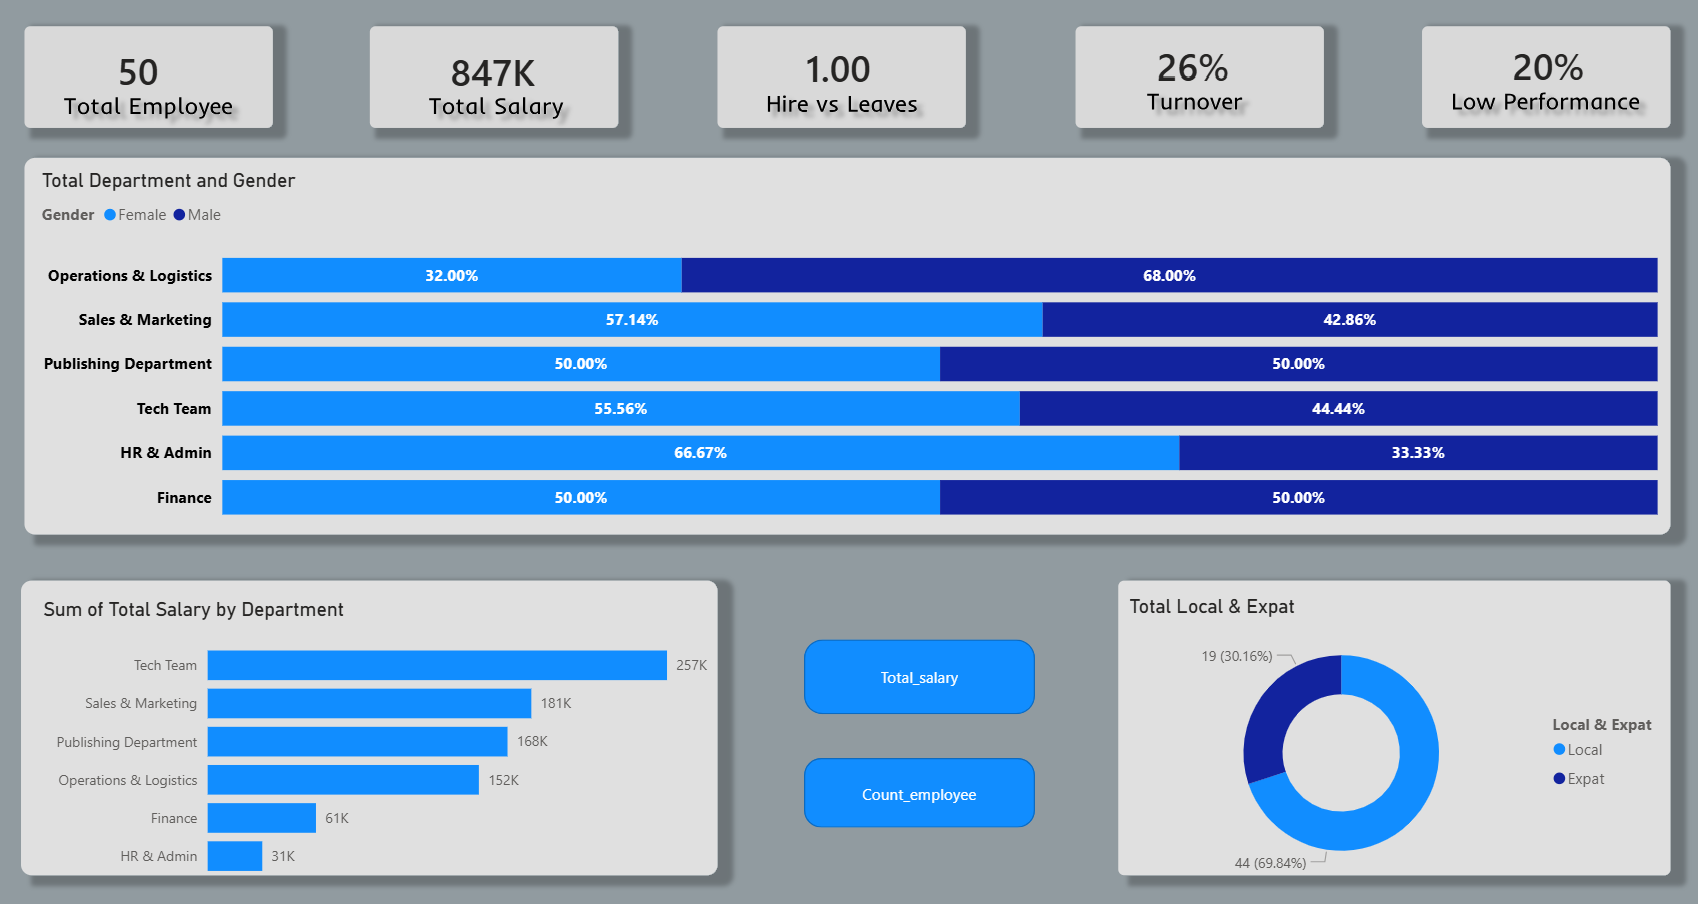

What the dashboard file says about the page in this screenshot:
{"tool":"powerbi","page":{"name":"overview_page","canvas":[1480,790],"ordinal":0},"visuals":[{"type":"group","id":"g1","title":"Group 2","box":[23,0,1434,777.1],"z":0,"group":"g3"},{"type":"group","id":"g2","title":"Group 1","box":[23,149.9,1434,627.1],"z":0,"group":"g1"},{"type":"barChart","fields":{"Category":["Employees.Department"],"Y":["Sum(Payroll.Total Salary)"]},"box":[37.9,521.6,586.5,255.4],"z":0,"group":"g2"},{"type":"group","id":"g3","title":"Group 3","box":[23,0,1434,777.1],"z":516},{"type":"cardVisual","fields":{"Data":["_measures.% low_peformance (2023-2024)"]},"box":[1285.4,11.8,127.9,94.1],"z":1000,"group":"g3"},{"type":"cardVisual","fields":{"Data":["CountNonNull(Employees.Employee_ID)"]},"box":[78,19.1,123.5,86.8],"z":1000,"group":"g1"},{"type":"cardVisual","fields":{"Data":["Sum(Payroll.Total Salary)"]},"box":[366.3,22.1,154.4,83.8],"z":2000,"group":"g1"},{"type":"shape","box":[701.1,557.3,200,64.7],"z":2000,"group":"g2"},{"type":"cardVisual","fields":{"Data":["_measures.Hire vs Leaves"]},"box":[673.6,0,227.9,120.6],"z":3000,"group":"g1"},{"type":"shape","box":[701.1,660.3,200,60.3],"z":3000,"group":"g2"},{"type":"cardVisual","fields":{"Data":["_measures.turnover"]},"box":[978,5.9,219.1,105.9],"z":4000,"group":"g1"},{"type":"hundredPercentStackedBarChart","title":"Total Department and Gender","fields":{"Category":["Employees.Department"],"Y":["CountNonNull(Employees.Department)"],"Series":["Employees.Gender"]},"box":[35.9,149.9,1408.8,320.6],"z":4000,"group":"g2"},{"type":"donutChart","title":"Total Local & Expat","fields":{"Category":["Employees.Local & Expat"],"Y":["CountNonNull(Employees.Local & Expat)"]},"box":[977.6,519.1,479.4,254.4],"z":5000,"group":"g2"}]}

Visuals, with their boxes in screenshot pixels (x1, y1, x2, y2), scaled from the page's 1480x790 canvas onto the 1698x904 screenshot:
"Group 2" group: (x1=26, y1=0, x2=1672, y2=889)
"Group 1" group: (x1=26, y1=172, x2=1672, y2=889)
barChart - Employees.Department x Sum(Payroll.Total Salary): (x1=43, y1=597, x2=716, y2=889)
"Group 3" group: (x1=26, y1=0, x2=1672, y2=889)
cardVisual - _measures.% low_peformance (2023-2024): (x1=1475, y1=14, x2=1621, y2=121)
cardVisual - CountNonNull(Employees.Employee_ID): (x1=89, y1=22, x2=231, y2=121)
cardVisual - Sum(Payroll.Total Salary): (x1=420, y1=25, x2=597, y2=121)
shape: (x1=804, y1=638, x2=1034, y2=712)
cardVisual - _measures.Hire vs Leaves: (x1=773, y1=0, x2=1034, y2=138)
shape: (x1=804, y1=756, x2=1034, y2=825)
cardVisual - _measures.turnover: (x1=1122, y1=7, x2=1373, y2=128)
"Total Department and Gender" hundredPercentStackedBarChart: (x1=41, y1=172, x2=1658, y2=538)
"Total Local & Expat" donutChart: (x1=1122, y1=594, x2=1672, y2=885)
